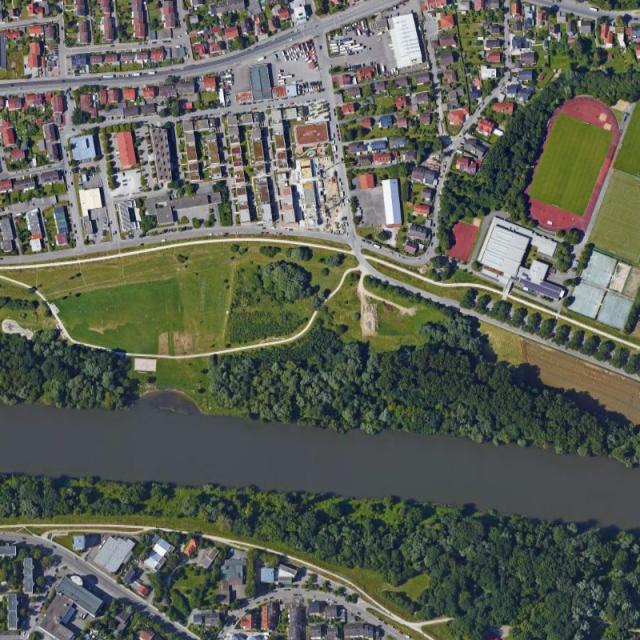vehicle: (277, 74, 294, 80), (349, 44, 362, 50), (342, 40, 355, 45), (350, 46, 362, 51), (372, 244, 382, 250), (101, 75, 115, 79), (340, 44, 352, 48), (330, 49, 339, 54), (340, 51, 350, 55), (381, 65, 386, 73), (132, 73, 140, 78), (340, 48, 349, 52), (330, 46, 339, 50), (258, 57, 265, 62), (590, 8, 598, 12), (279, 83, 286, 86), (330, 44, 340, 46), (149, 72, 155, 75), (270, 227, 275, 230)
